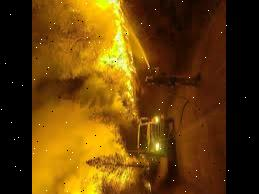fire: (85, 0, 136, 108), (56, 168, 112, 194)
